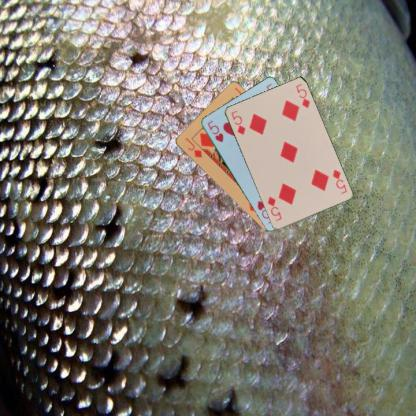5d: (329, 167, 348, 195), (228, 108, 246, 136)
5h: (204, 118, 224, 143)
Jd: (182, 135, 204, 159)
